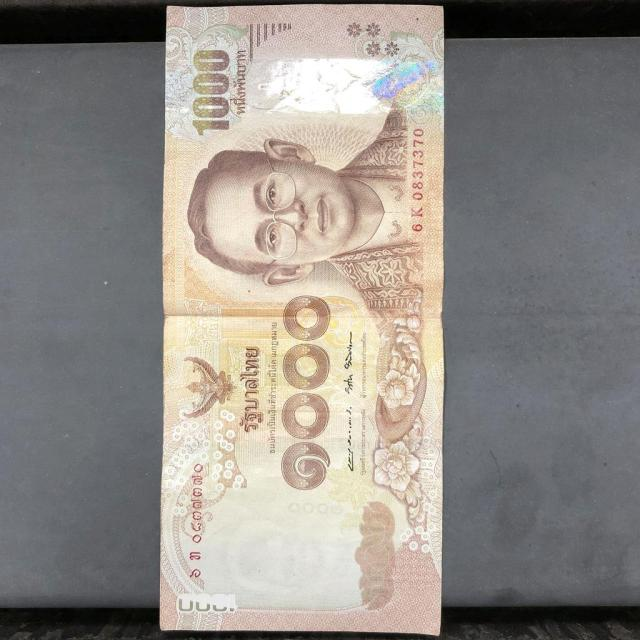THAI1000: (158, 6, 445, 639)
